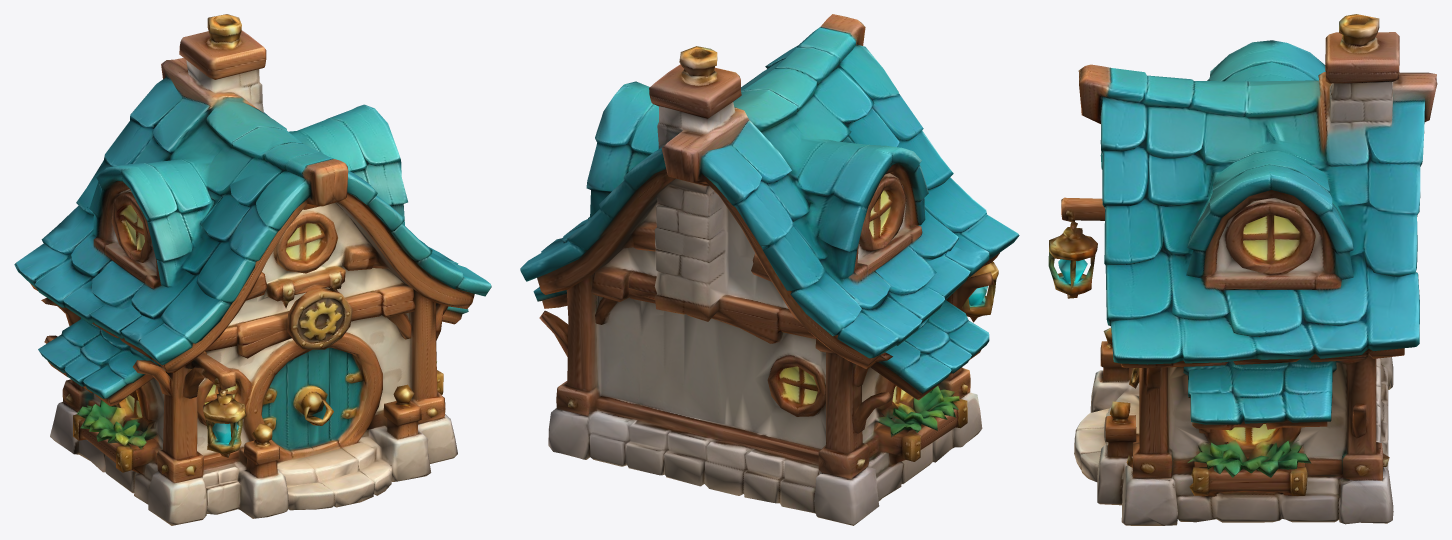
The model's file is X_HouseA_HD.glb.
The picture shows the model from 3 angles, left to right: view 1: azimuth 30°, elevation 25°; view 2: azimuth 150°, elevation 25°; view 3: azimuth 270°, elevation 25°; orthographic projection. The views are drawn at different scales.
Parts seen in each view (by area): view 1: tripo_node_3b8baafd-a95c-4a15-95f3-294efa3db12c; view 2: tripo_node_3b8baafd-a95c-4a15-95f3-294efa3db12c; view 3: tripo_node_3b8baafd-a95c-4a15-95f3-294efa3db12c.
Boxes of the visible parts, left/top/right/bottom form: tripo_node_3b8baafd-a95c-4a15-95f3-294efa3db12c: left=14, top=14, right=491, bottom=525; tripo_node_3b8baafd-a95c-4a15-95f3-294efa3db12c: left=520, top=14, right=1019, bottom=525; tripo_node_3b8baafd-a95c-4a15-95f3-294efa3db12c: left=1048, top=14, right=1437, bottom=525.
Size of the model in its own units: 0.9728 by 0.9796 by 0.7888.
Materials: 1 (1 with a texture image).
